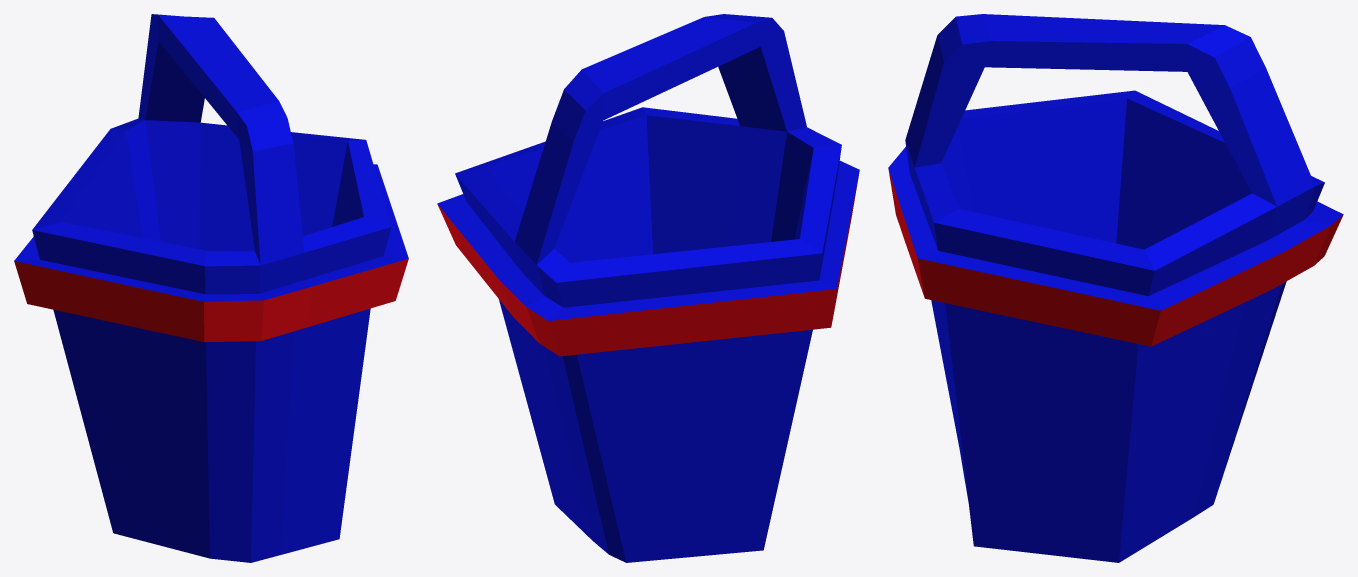
Rendered from SM_Bucket2.fbx.
3 renders of one model, left to right at view 1: azimuth 30°, elevation 25°; view 2: azimuth 150°, elevation 25°; view 3: azimuth 270°, elevation 25°, orthographic. The views are drawn at different scales.
Parts seen in each view (by area): view 1: SM_Bucket2; view 2: SM_Bucket2; view 3: SM_Bucket2.
Part boxes in pixels (x1,y1,x2,y2): SM_Bucket2: (14, 14, 408, 562); SM_Bucket2: (437, 14, 859, 562); SM_Bucket2: (888, 14, 1343, 562).
Size of the model in its own units: 22.67 by 26.39 by 22.29.
